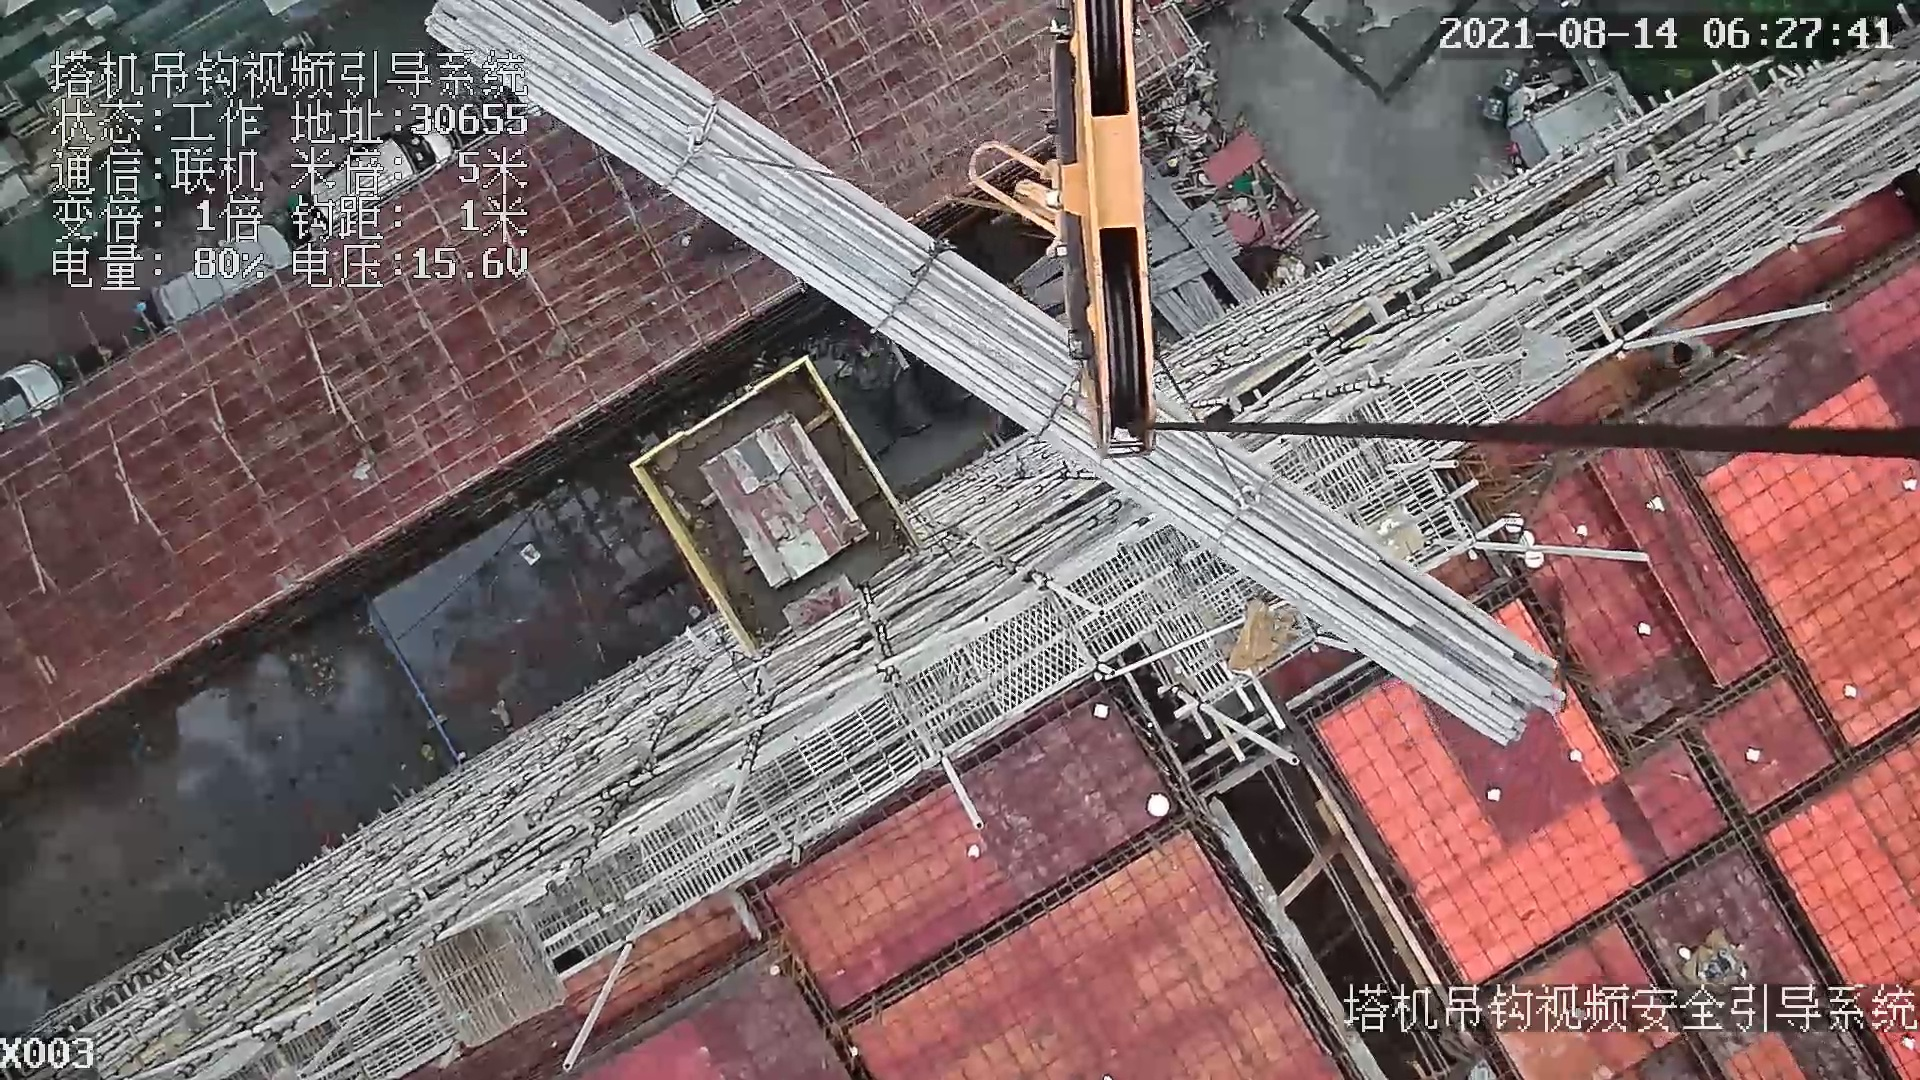hook: (1042, 1, 1158, 462)
person: (1663, 341, 1736, 373)
